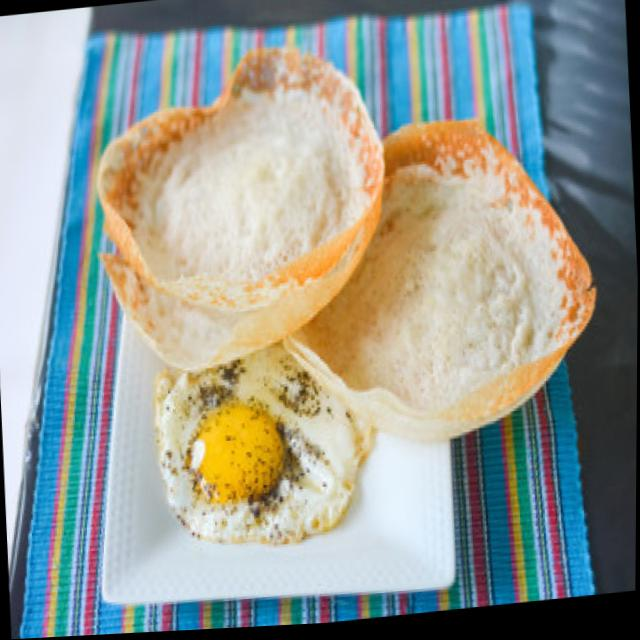AAPAM: (99, 47, 593, 436)
EGG: (156, 345, 374, 540)
